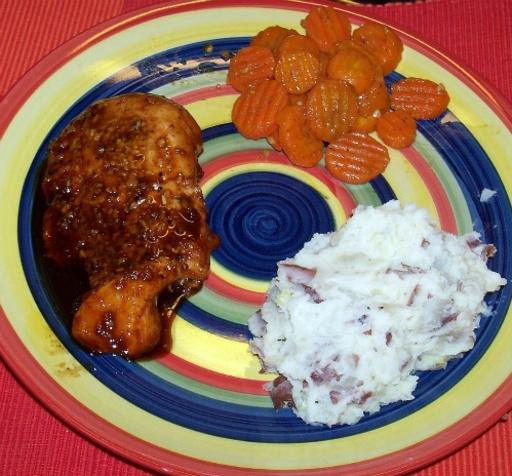background: (196, 147, 406, 318), (32, 68, 176, 266), (178, 4, 359, 137)
